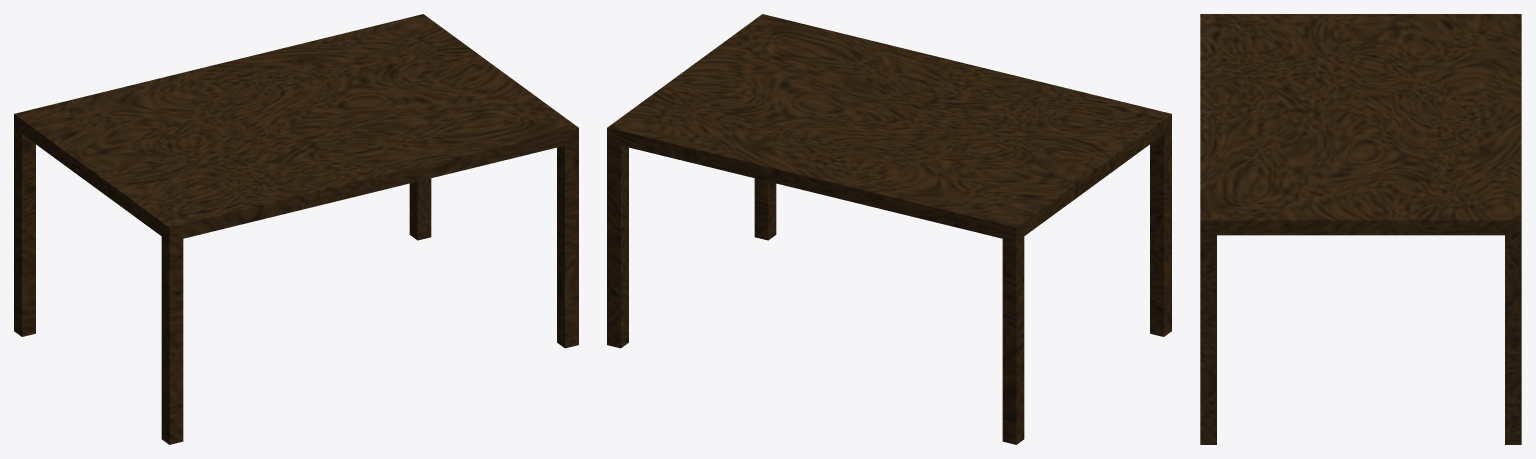
Rendered from Table.fbx.
The picture shows the model from 3 angles, left to right: view 1: azimuth 30°, elevation 25°; view 2: azimuth 150°, elevation 25°; view 3: azimuth 270°, elevation 25°; orthographic projection. The views are drawn at different scales.
Parts seen in each view (by area): view 1: Table_Baked; view 2: Table_Baked; view 3: Table_Baked.
Boxes of the visible parts, <box> form: Table_Baked: <box>14,14,578,444</box>; Table_Baked: <box>607,14,1171,444</box>; Table_Baked: <box>1200,14,1521,444</box>.
Bounding box in the file's own units: 148 × 75 × 97.21.
